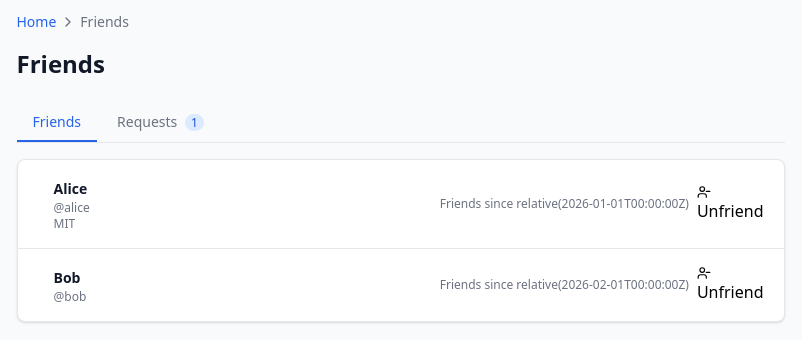
FriendsView › switches to requests tab and shows requests
Click the tab "Requests 1": click(160, 123) [101,104,220,142]
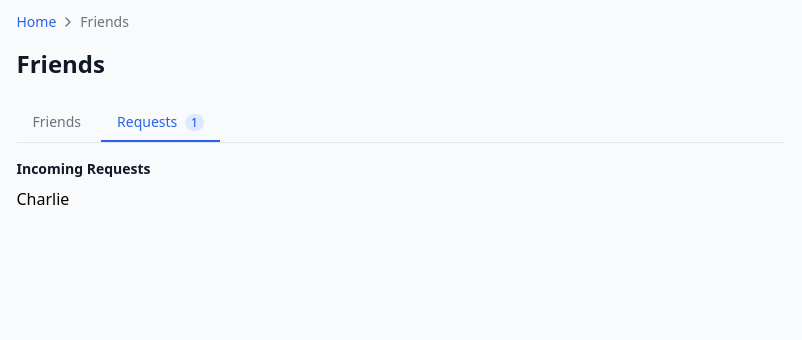
Expected: the text "Charlie" is shown, [16,188,69,210]
